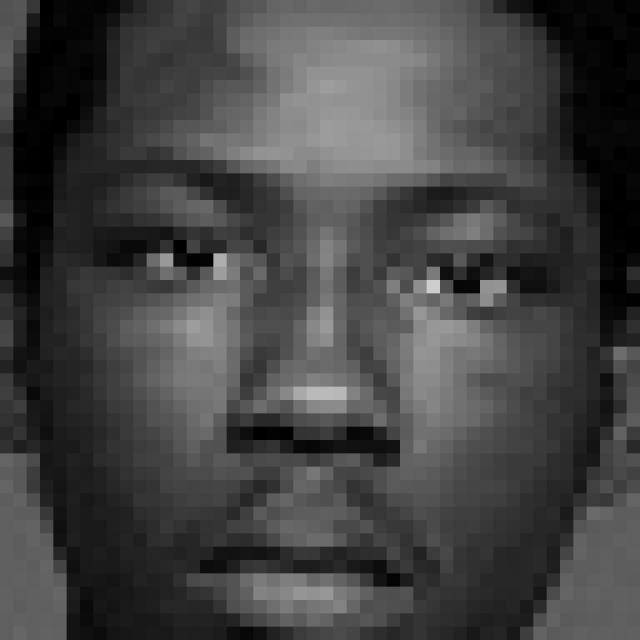neutral: (88, 138, 582, 640)
